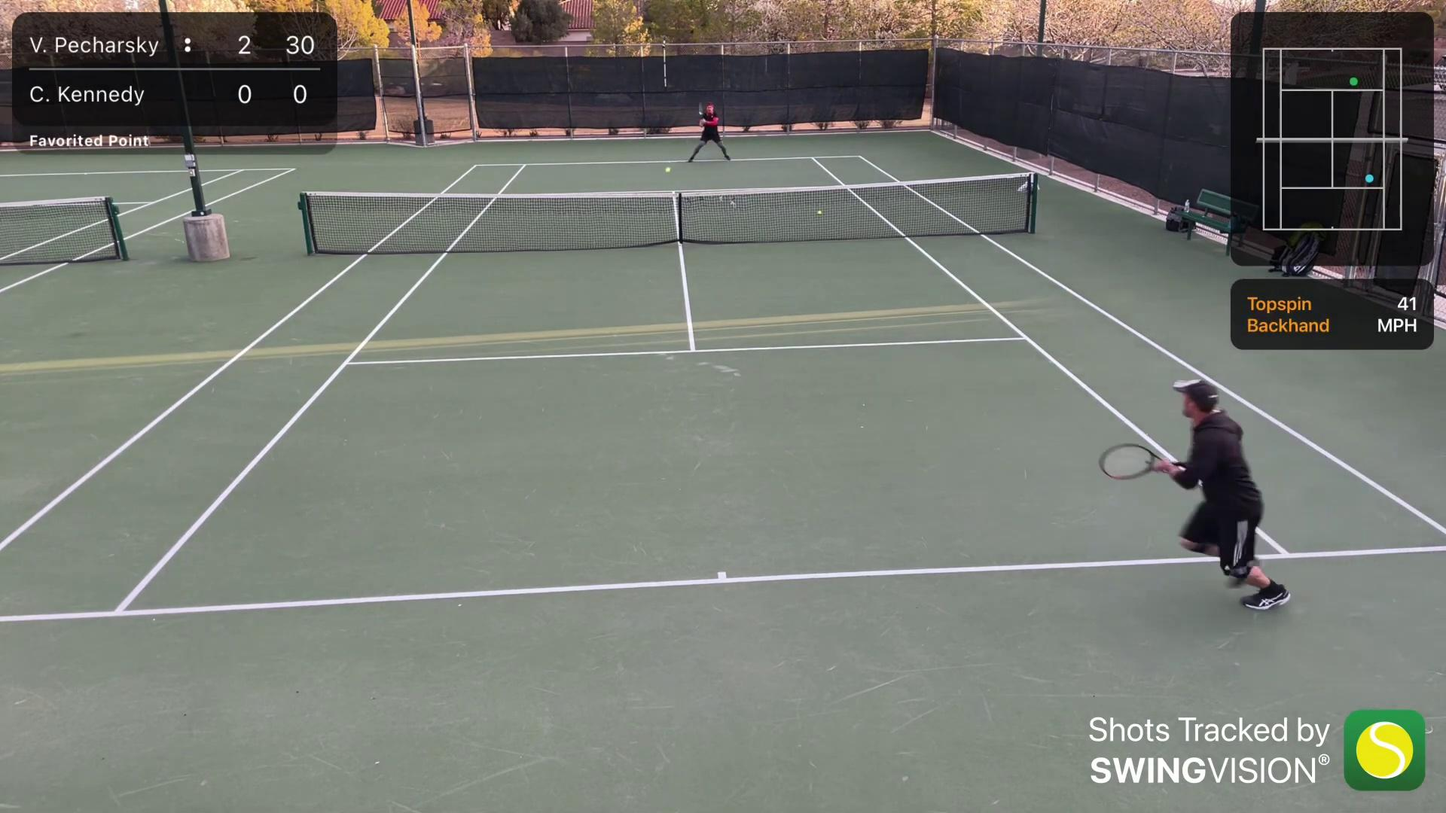ball: (664, 167, 671, 174), (816, 209, 823, 216)
